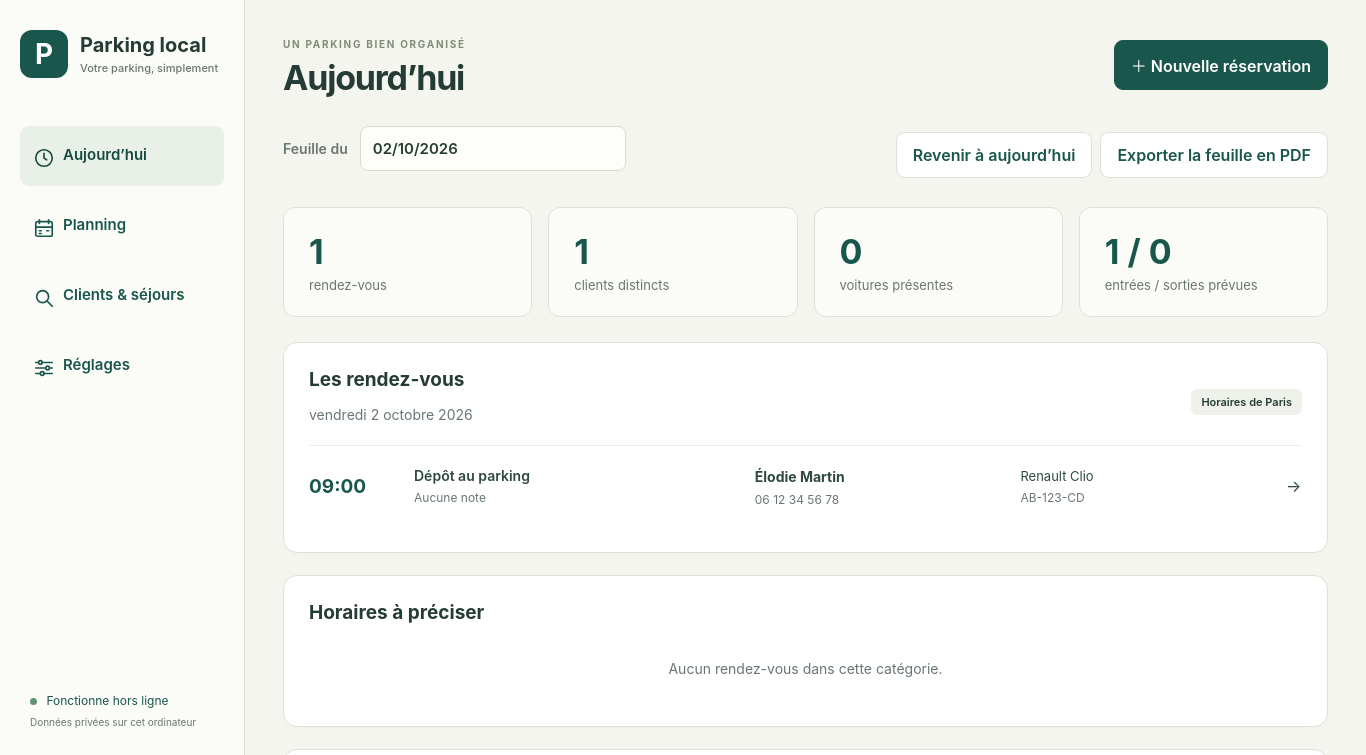
parcours du gestionnaire › demande avant d’abandonner un formulaire modifié
Click the button "＋ Nouvelle réservation". click: (1221, 65)
box: [1114,40,1328,90]
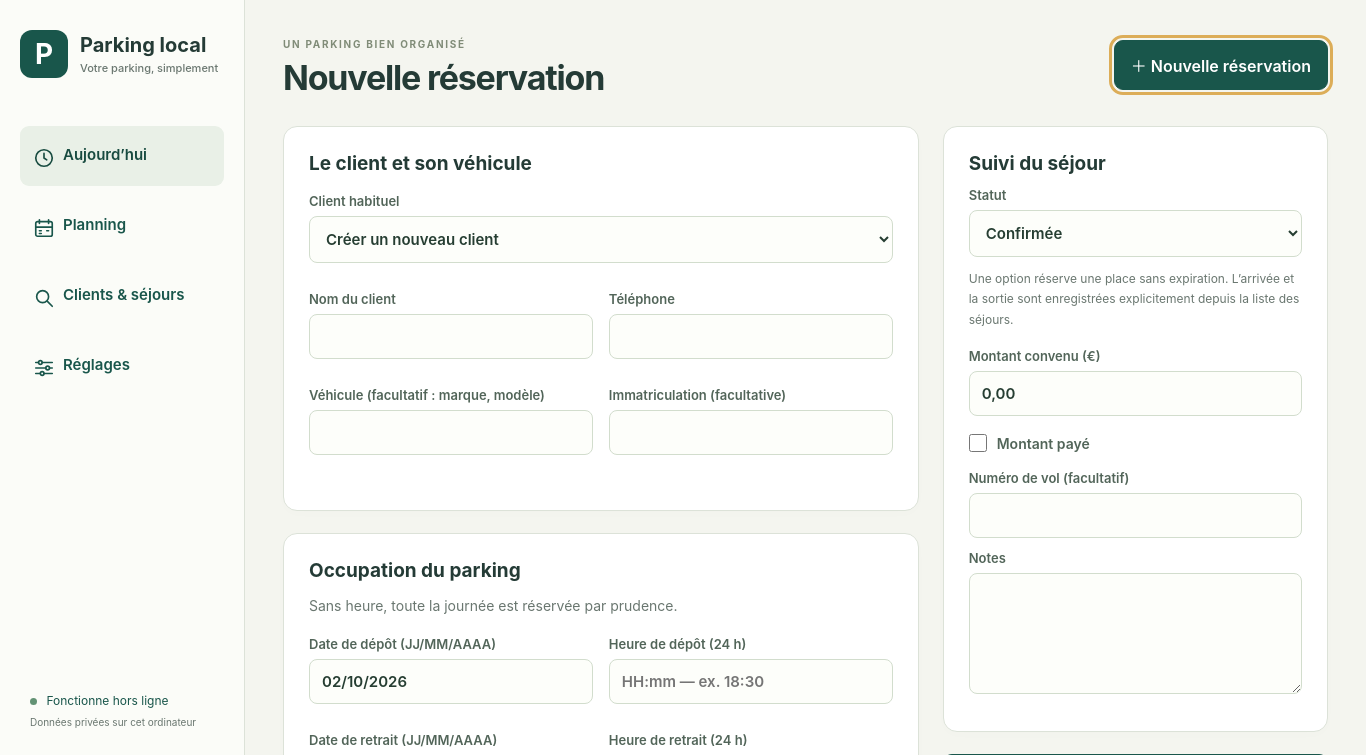
Type "Paul" into the field labelled "Nom du client". click: (451, 336)
box: [309,314,593,359]
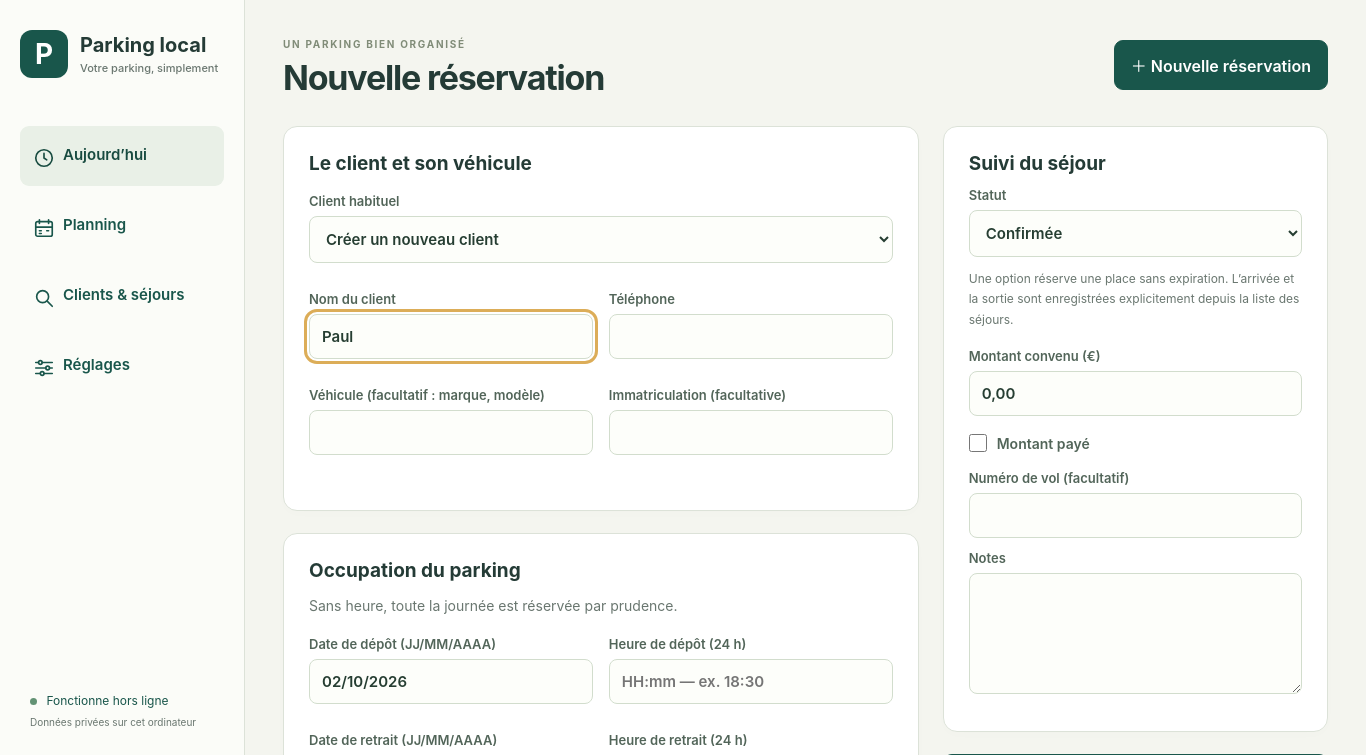
Click the button "Planning". click: (122, 226)
box: [20,196,224,256]
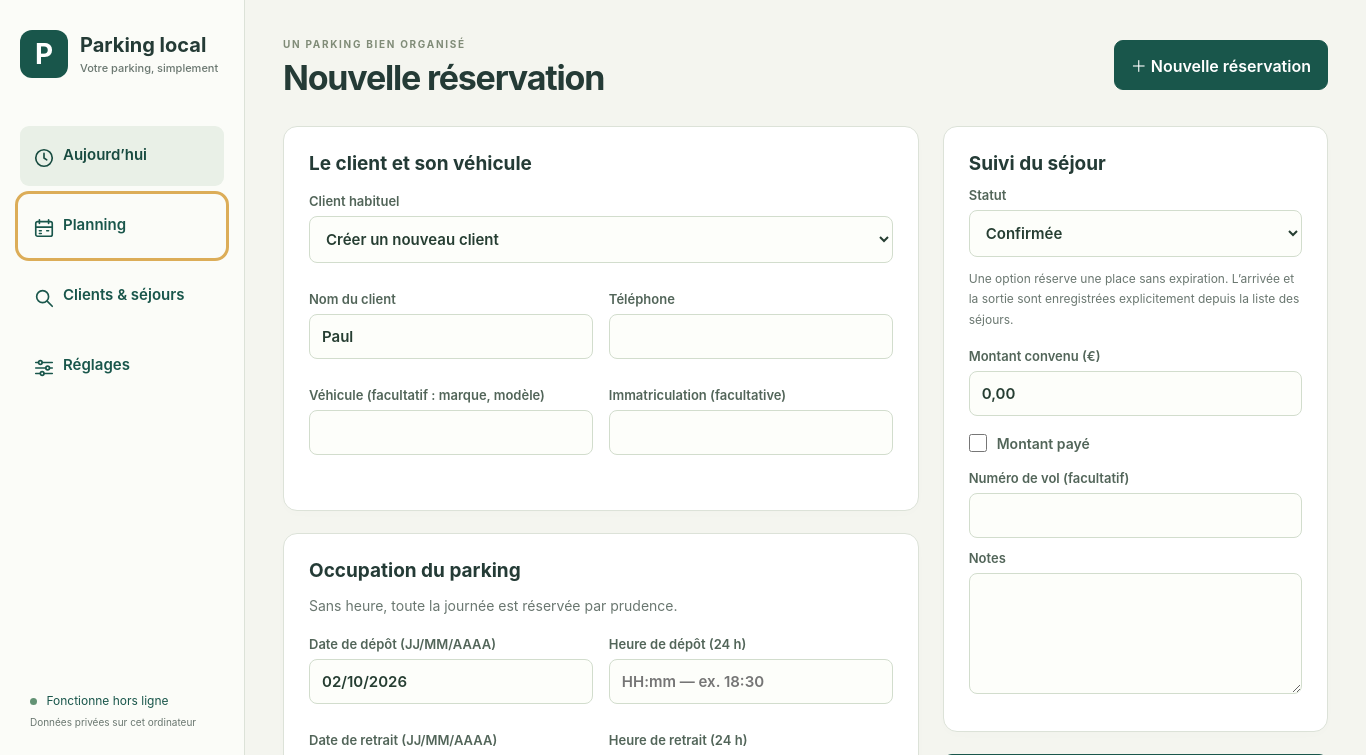
Click the button "Planning". click: (122, 226)
box: [20,196,224,256]
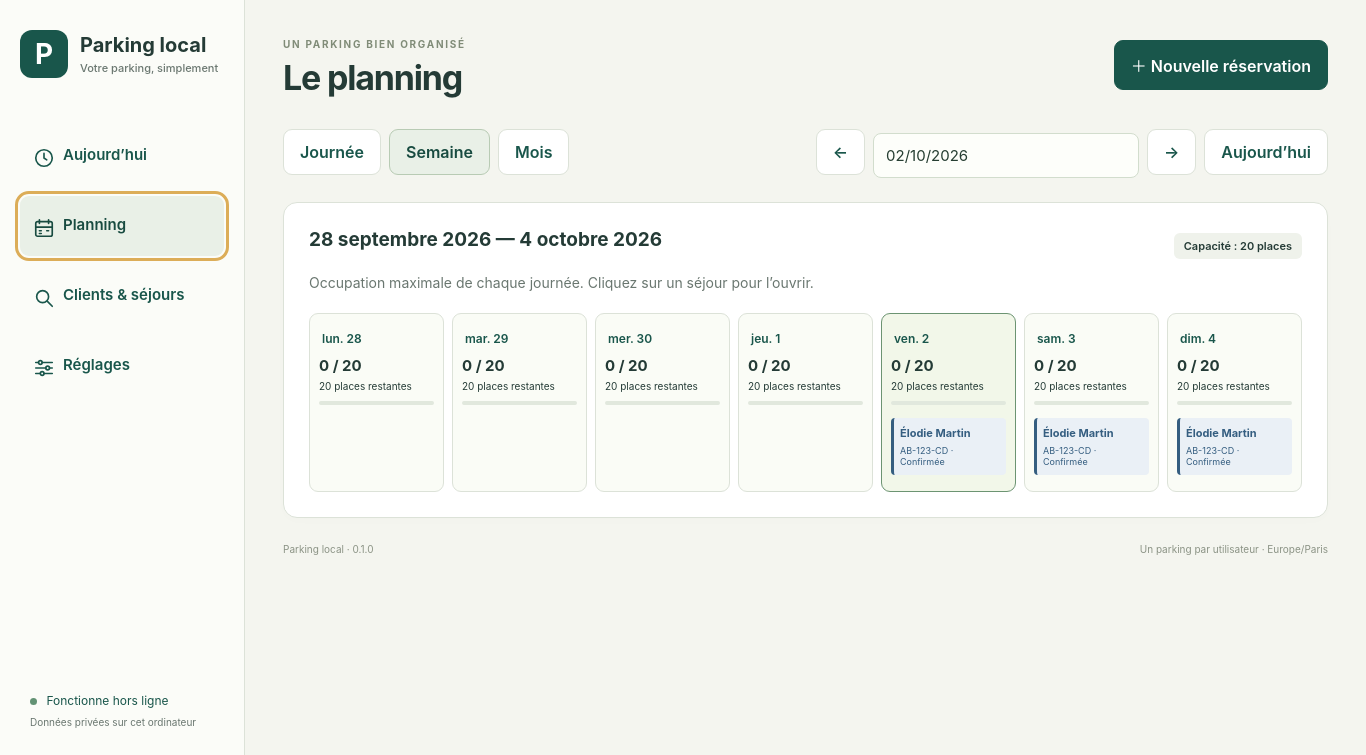
Result: the heading "Le planning" is shown at [283,57,466,98]
